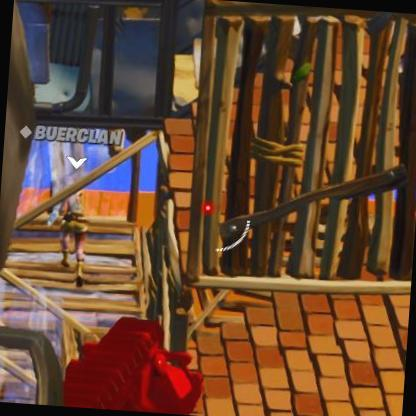person: (56, 172, 96, 275)
